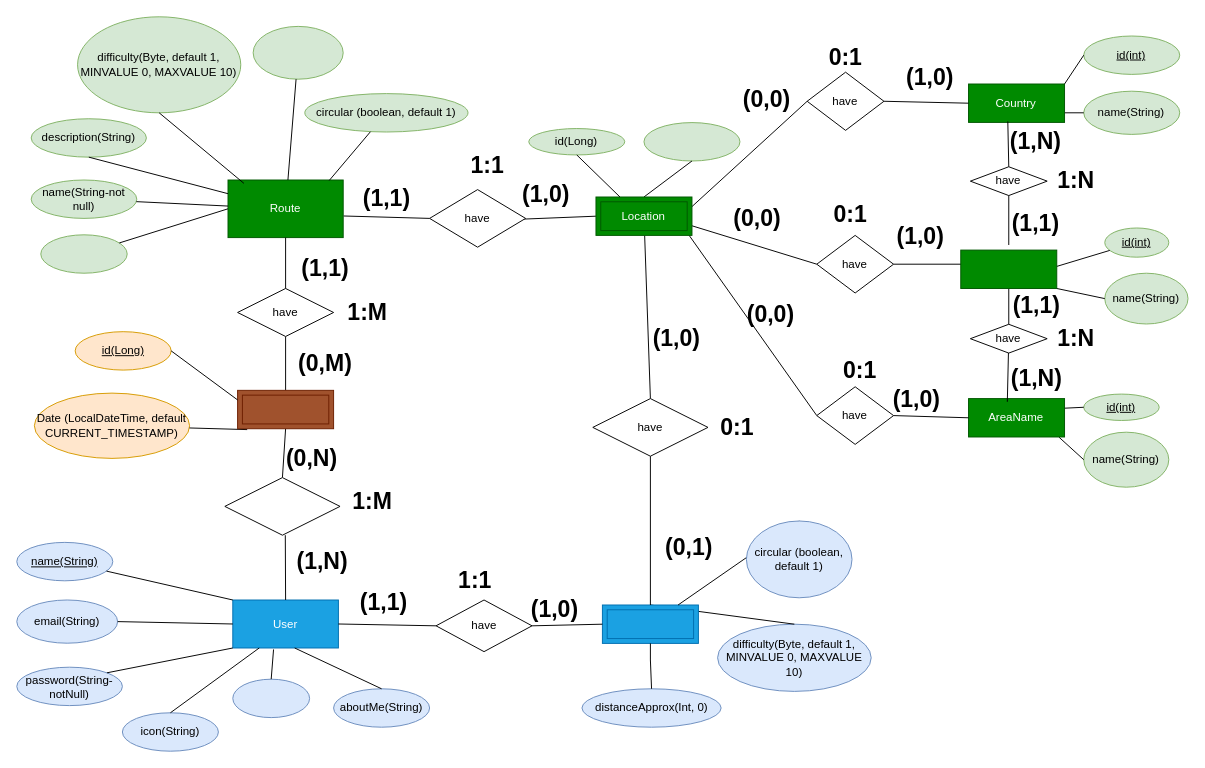
This 1205x768 diagram has some shape labels left out. Each missing label, with the centre of its shape:
"distance(Int, default 0)" belongs at point (297, 52).
"id (Long)" belongs at point (83, 253).
"join" belongs at point (282, 506).
"Meeting" belongs at point (285, 409).
"phone(String)" belongs at point (271, 698).
"Province" belongs at point (1008, 268).
"RoutePreferences" belongs at point (649, 623).
"start(String)" belongs at point (691, 141).
